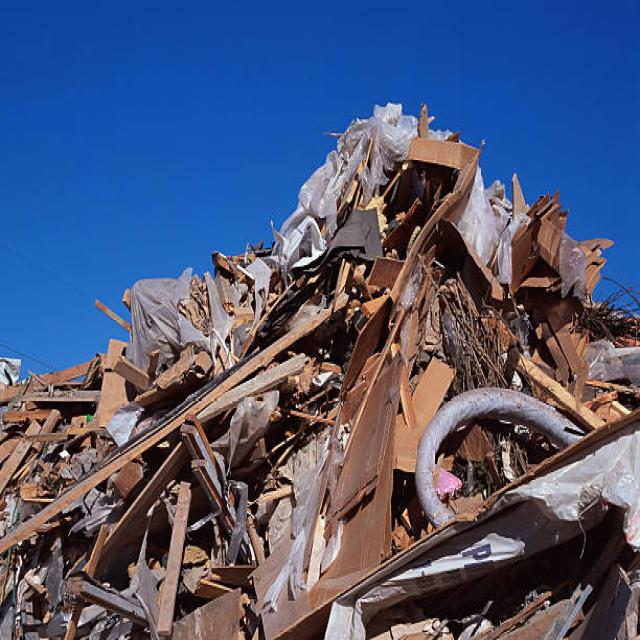cardboard: (31, 160, 564, 613)
